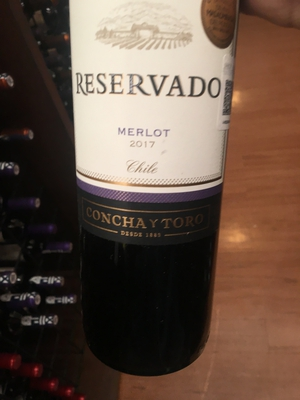reservado merlot: (51, 1, 251, 373)
